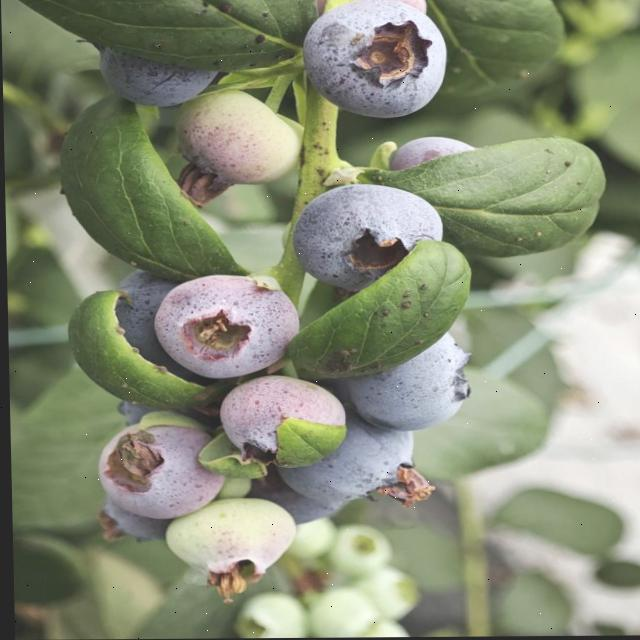RipeBlueBerry: (301, 0, 450, 123), (293, 180, 445, 290)
Semi-RipeBlueBerry: (153, 275, 299, 381)
UnripeBlueBerry: (162, 501, 296, 589)
